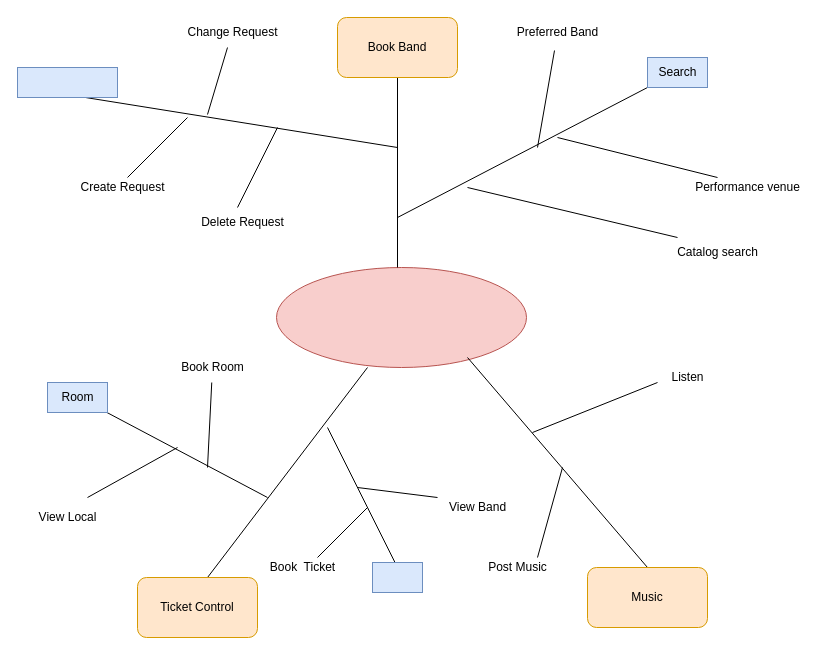
Some shapes in this 830 by 655 pixel diagram are drawn without their labels. The centre of each missing label's shape, as x and y in pixels:
Book Request: (67,82)
Show: (397,577)
Tea Room: (401,317)
